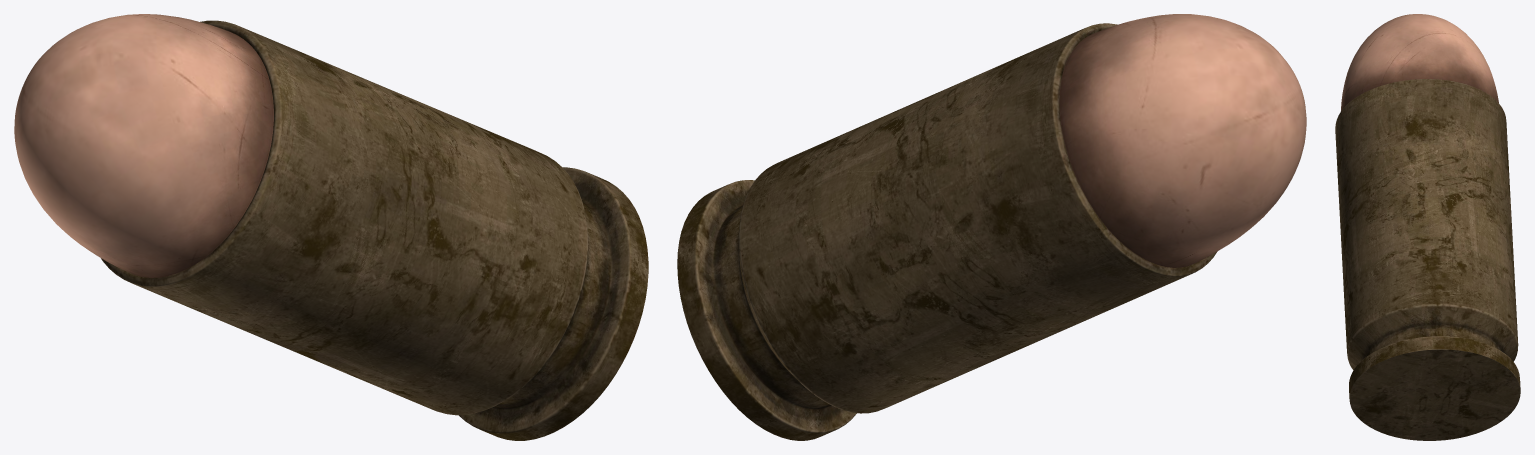
3 views of the same model, side by side, from view 1: azimuth 30°, elevation 25°; view 2: azimuth 150°, elevation 25°; view 3: azimuth 270°, elevation 25° (orthographic). The views are drawn at different scales.
Parts seen in each view (by area): view 1: slingshot_body; view 2: slingshot_body; view 3: slingshot_body.
Part boxes in pixels (left/top/right/bottom): slingshot_body: left=14, top=14, right=648, bottom=440; slingshot_body: left=677, top=14, right=1306, bottom=440; slingshot_body: left=1335, top=14, right=1520, bottom=440.
Bounding box in the file's own units: 0.9719 × 0.7766 × 0.4231.
Materials: 2 (2 with a texture image).
